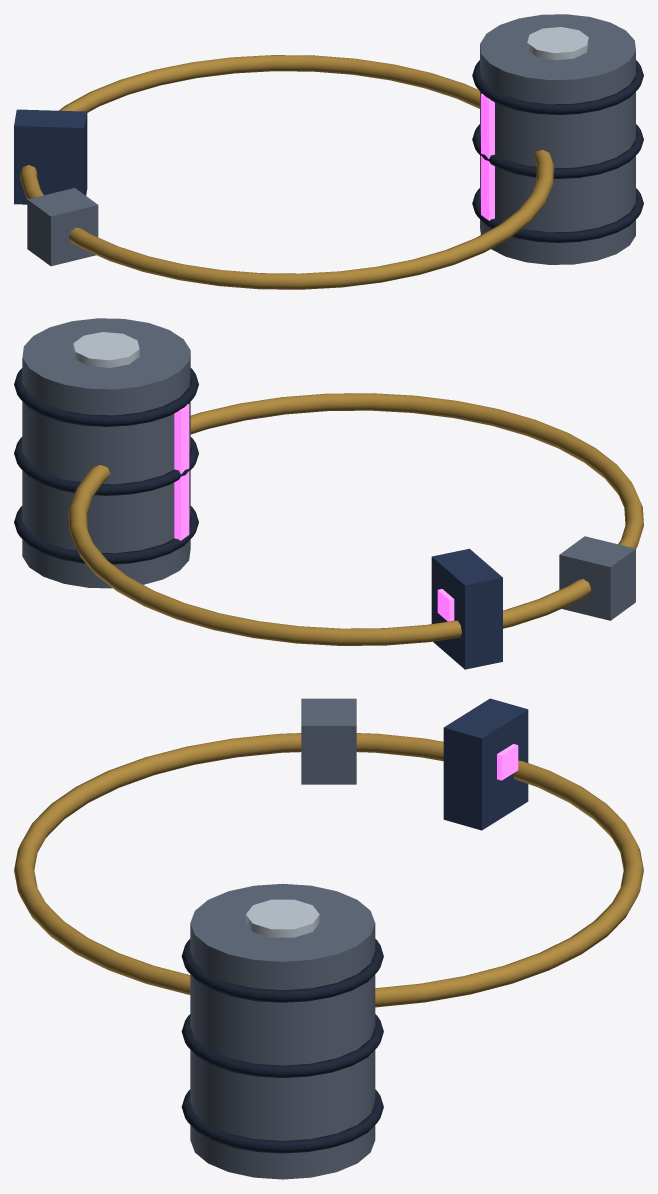
Rendered from tower_arc_rate_s4.glb.
The picture shows the model from 3 angles, top to bottom: view 1: azimuth 30°, elevation 25°; view 2: azimuth 150°, elevation 25°; view 3: azimuth 270°, elevation 25°; orthographic projection. The views are drawn at different scales.
Visible parts, largest first — view 1: arc_supercap, arc_coolant_loop, arc_meter_box, arc_coolant_pump, arc_supercap_rib0.18, arc_supercap_rib0, arc_supercap_rib-0.18, arc_supercap_cap, arc_supercap_gauge; view 2: arc_supercap, arc_coolant_loop, arc_meter_box, arc_coolant_pump, arc_supercap_rib0.18, arc_supercap_rib0, arc_supercap_rib-0.18, arc_supercap_gauge, arc_supercap_cap; view 3: arc_supercap, arc_coolant_loop, arc_meter_box, arc_coolant_pump, arc_supercap_rib-0.18, arc_supercap_rib0.18, arc_supercap_rib0, arc_supercap_cap.
Part boxes in pixels (x1=…): arc_supercap: x1=480, y1=14, x2=635, y2=264; arc_coolant_loop: x1=20, y1=55, x2=554, y2=289; arc_meter_box: x1=14, y1=109, x2=87, y2=204; arc_coolant_pump: x1=27, y1=188, x2=98, y2=266; arc_supercap_rib0.18: x1=472, y1=60, x2=643, y2=114; arc_supercap_rib0: x1=472, y1=124, x2=643, y2=178; arc_supercap_rib-0.18: x1=472, y1=188, x2=643, y2=242; arc_supercap_cap: x1=527, y1=27, x2=588, y2=60; arc_supercap_gauge: x1=481, y1=94, x2=494, y2=220; arc_supercap: x1=22, y1=318, x2=190, y2=588; arc_coolant_loop: x1=68, y1=393, x2=643, y2=645; arc_meter_box: x1=431, y1=548, x2=502, y2=669; arc_coolant_pump: x1=559, y1=536, x2=635, y2=620; arc_supercap_rib0.18: x1=14, y1=368, x2=198, y2=426; arc_supercap_rib0: x1=14, y1=437, x2=198, y2=495; arc_supercap_rib-0.18: x1=14, y1=506, x2=198, y2=564; arc_supercap_gauge: x1=174, y1=404, x2=189, y2=540; arc_supercap_cap: x1=73, y1=332, x2=139, y2=367; arc_supercap: x1=190, y1=883, x2=375, y2=1179; arc_coolant_loop: x1=14, y1=733, x2=643, y2=1007; arc_meter_box: x1=443, y1=698, x2=528, y2=830; arc_coolant_pump: x1=301, y1=698, x2=356, y2=784; arc_supercap_rib-0.18: x1=181, y1=1089, x2=383, y2=1153; arc_supercap_rib0.18: x1=181, y1=939, x2=383, y2=1002; arc_supercap_rib0: x1=181, y1=1014, x2=383, y2=1077; arc_supercap_cap: x1=246, y1=899, x2=319, y2=937.
Size of the model in its own units: 1.69 by 0.56 by 1.36.
